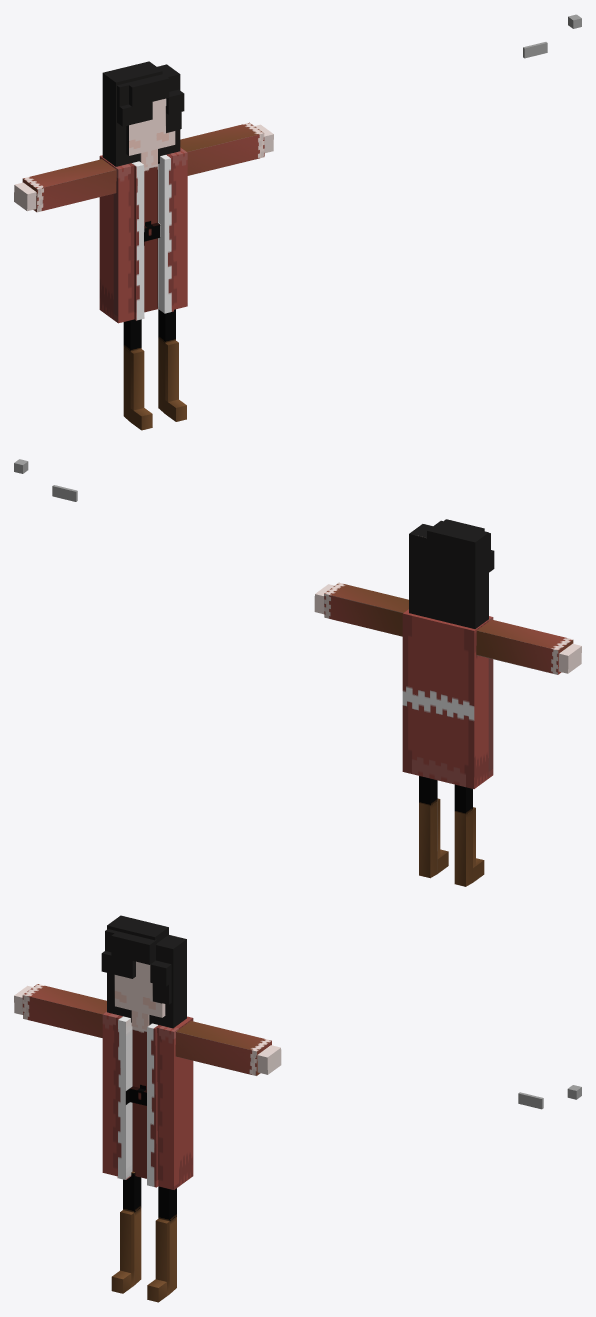
The model's file is girl5.fbx.
3 views of the same model, one above another, from view 1: azimuth 30°, elevation 25°; view 2: azimuth 150°, elevation 25°; view 3: azimuth 330°, elevation 25° (orthographic). The views are drawn at different scales.
Visible parts, largest first — view 1: pCube5, pCube3, pCube4, pCube17, pCube12, pCube7, pCube16; view 2: pCube5, pCube4, pCube17, pCube12, pCube7, pCube16, pCube18; view 3: pCube5, pCube3, pCube4, pCube12, pCube17, pCube7, pCube16, pCube13.
Boxes of the visible parts, x1=… form: pCube5: x1=99, y1=147, x2=187, y2=323; pCube3: x1=117, y1=74, x2=184, y2=167; pCube4: x1=102, y1=61, x2=180, y2=166; pCube17: x1=22, y1=159, x2=116, y2=212; pCube12: x1=180, y1=122, x2=264, y2=175; pCube7: x1=123, y1=319, x2=152, y2=430; pCube16: x1=158, y1=309, x2=186, y2=421; pCube5: x1=402, y1=609, x2=493, y2=788; pCube4: x1=409, y1=520, x2=488, y2=628; pCube17: x1=476, y1=619, x2=573, y2=674; pCube12: x1=324, y1=582, x2=408, y2=636; pCube7: x1=454, y1=784, x2=484, y2=886; pCube16: x1=419, y1=776, x2=448, y2=878; pCube18: x1=558, y1=643, x2=581, y2=673; pCube5: x1=102, y1=1011, x2=193, y2=1189; pCube3: x1=101, y1=929, x2=171, y2=1029; pCube4: x1=107, y1=915, x2=186, y2=1028; pCube12: x1=175, y1=1021, x2=271, y2=1075; pCube17: x1=22, y1=984, x2=106, y2=1037; pCube7: x1=111, y1=1171, x2=141, y2=1293; pCube16: x1=147, y1=1186, x2=176, y2=1302; pCube13: x1=257, y1=1045, x2=281, y2=1074.
Size of the model in its own units: 15.77 by 9.41 by 1.28.
Materials: 7 (6 with a texture image).
